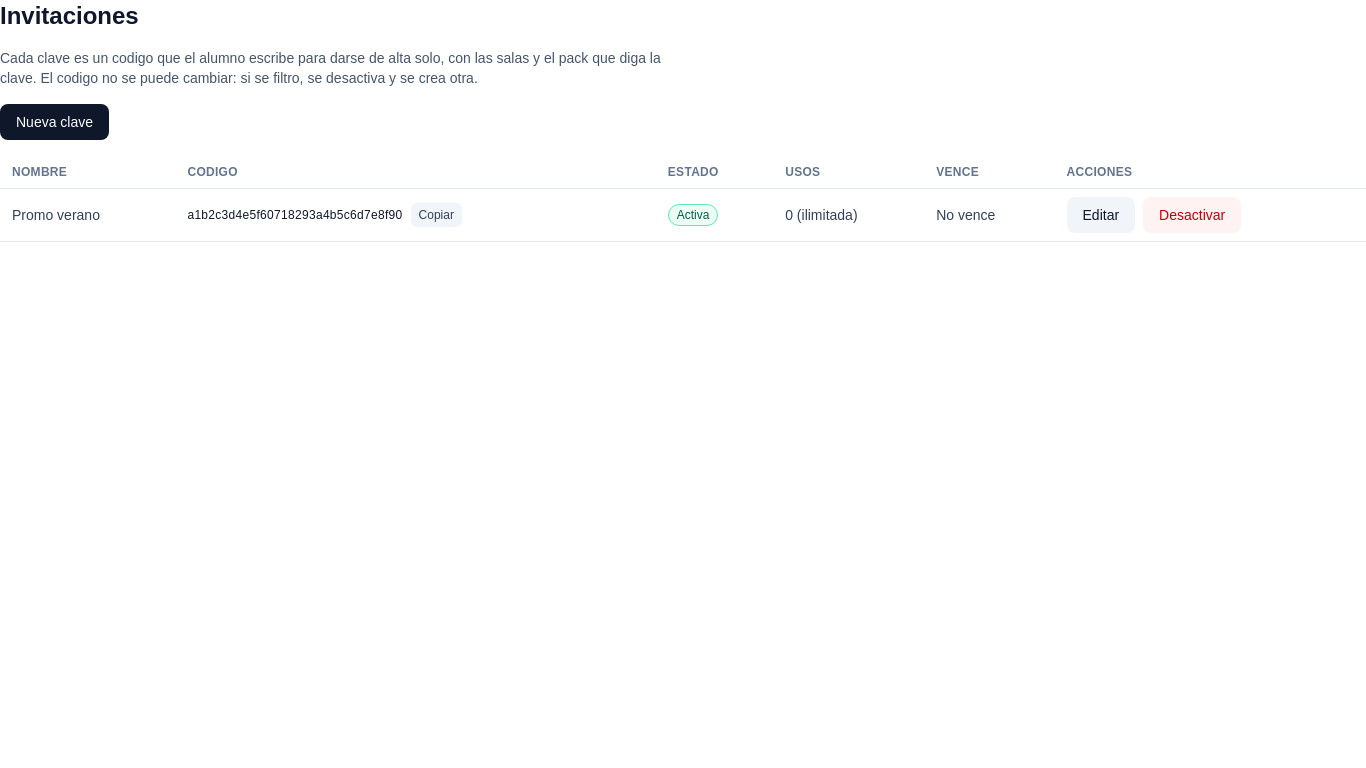
Test case: desactivar una clave › cancelar no manda nada y cierra el dialogo
Click the button with aria-label "Desactivar Promo verano". click: (1192,215)
box: [1143,197,1241,233]
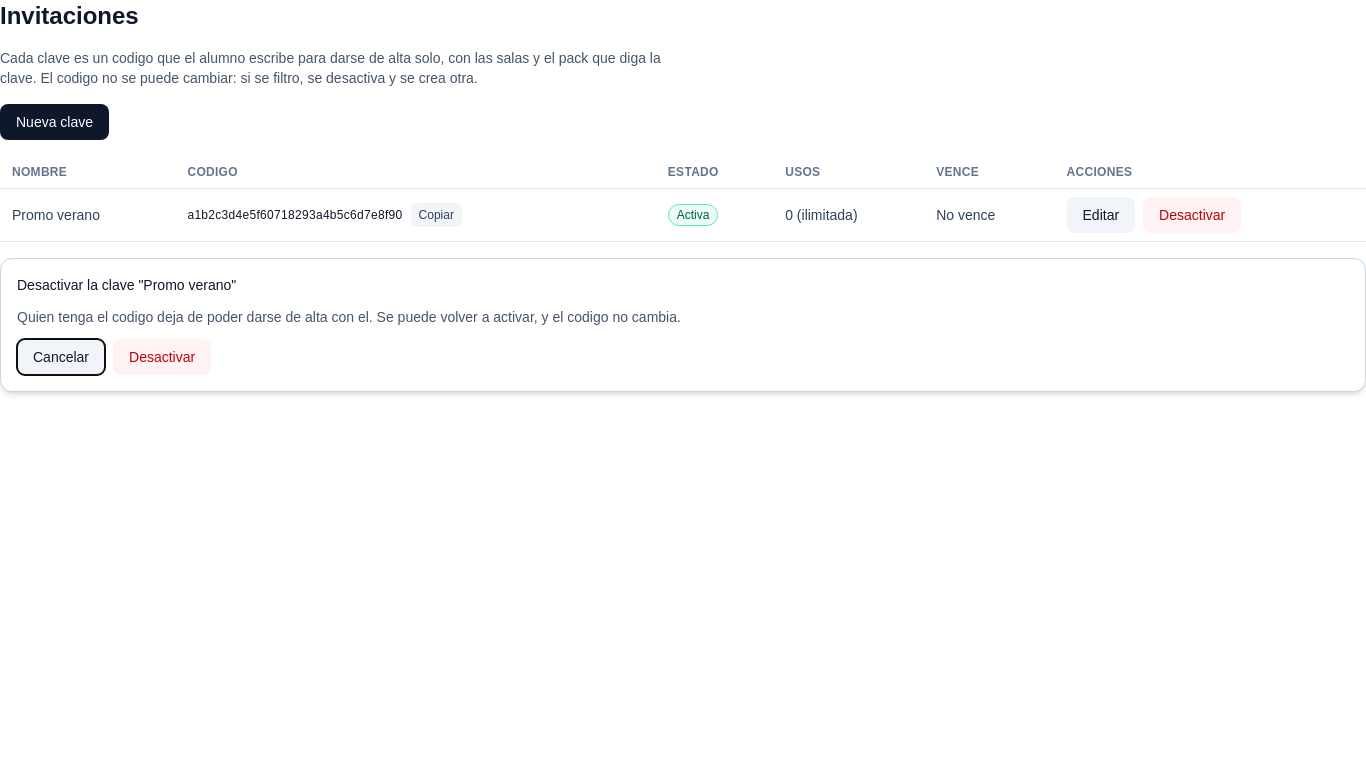
Click the button "Cancelar". click: (61,357)
box: [17,339,105,375]
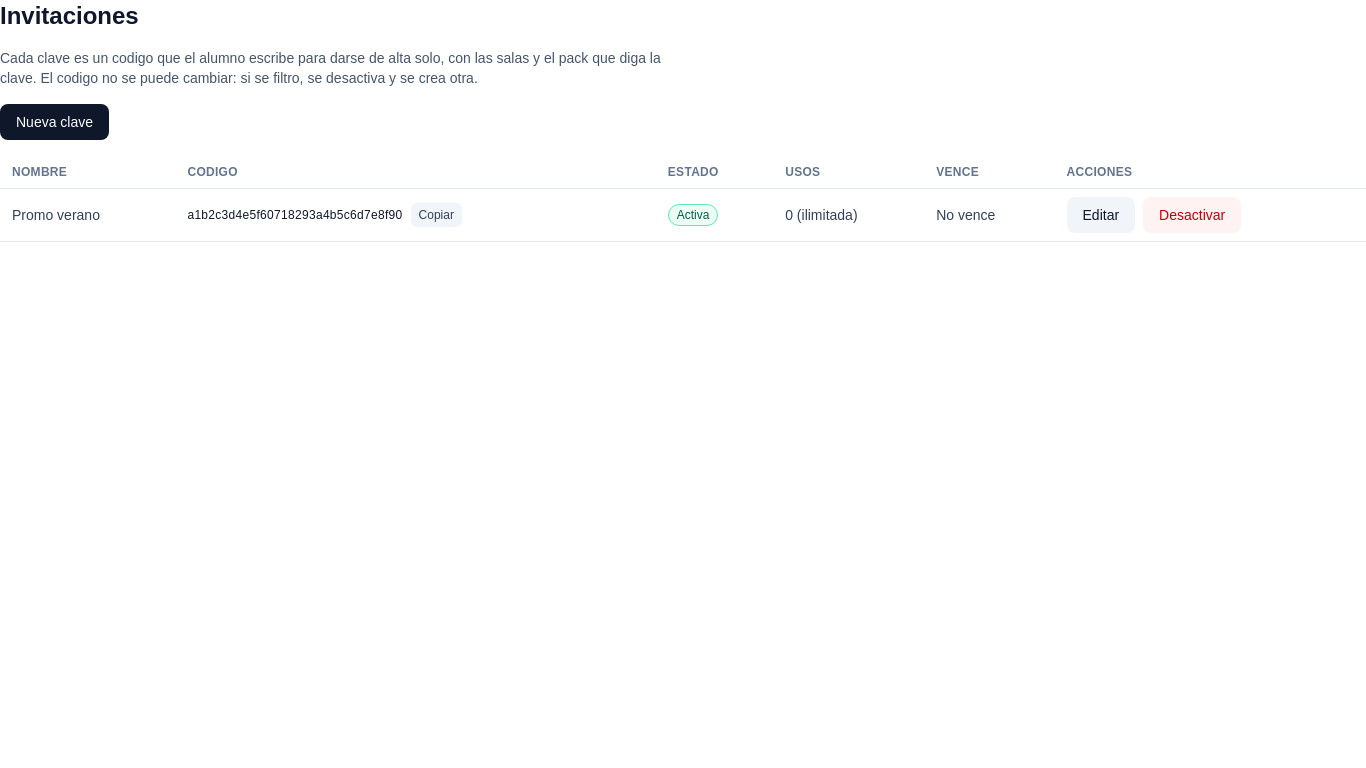
Now the dialog is gone
